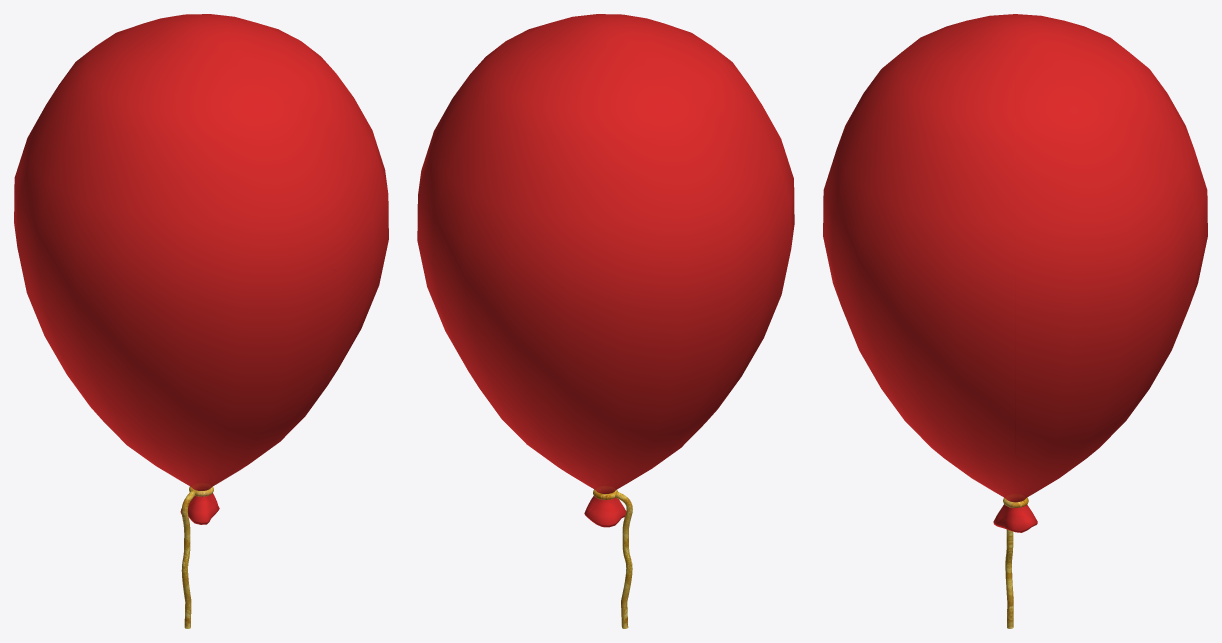
Rendered from Basic_Balloon.FBX.
The picture shows the model from 3 angles, left to right: view 1: azimuth 30°, elevation 25°; view 2: azimuth 150°, elevation 25°; view 3: azimuth 270°, elevation 25°; orthographic projection. The views are drawn at different scales.
Parts seen in each view (by area): view 1: SimpleRed; view 2: SimpleRed; view 3: SimpleRed.
Part boxes in pixels (x1,y1,x2,y2): SimpleRed: (14,14,388,628); SimpleRed: (417,14,794,628); SimpleRed: (823,14,1207,628).
Size of the model in its own units: 25.74 by 44.82 by 25.71.
